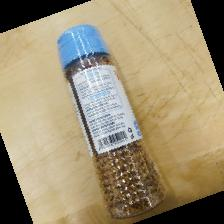TayNinh_blue: (56, 24, 166, 220)
